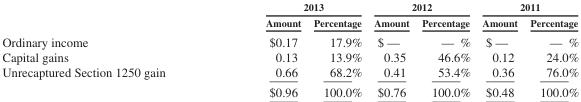table: (1, 1, 578, 99)
table column: (1, 1, 214, 99), (214, 1, 306, 99), (306, 1, 367, 99), (414, 1, 475, 99), (523, 1, 578, 99), (475, 1, 523, 99), (367, 1, 414, 99)
table column header: (1, 1, 578, 31)
table row: (1, 31, 578, 49), (1, 81, 578, 99), (1, 14, 578, 31), (1, 64, 578, 81), (1, 49, 578, 64), (1, 1, 578, 14)
table spanning cell: (214, 1, 367, 14), (367, 1, 475, 14), (475, 1, 578, 14)
